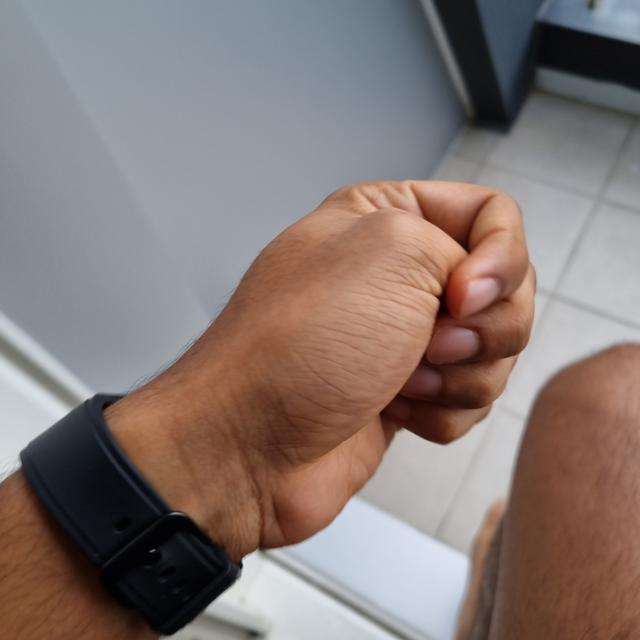Rock: (116, 181, 534, 548)
